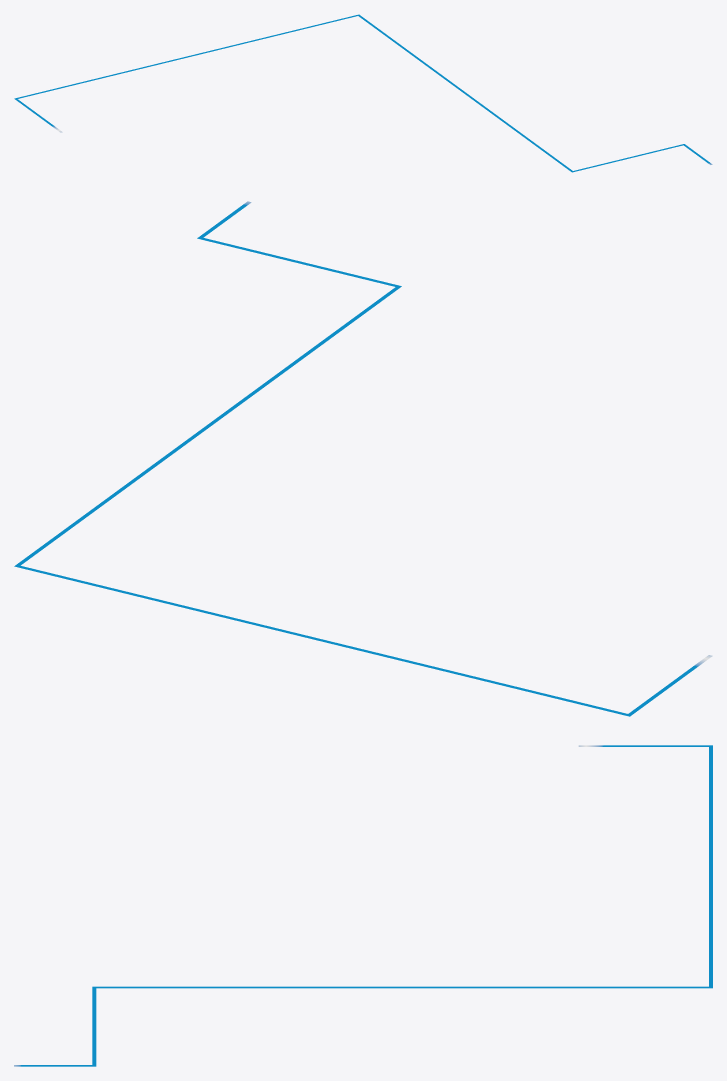
Rendered from Rompus_Room_to_Clean_Supply_Room.fbx.
3 views of the same model, one above another, from view 1: azimuth 30°, elevation 25°; view 2: azimuth 150°, elevation 25°; view 3: azimuth 270°, elevation 25° (orthographic). The views are drawn at different scales.
Visible parts, largest first — view 1: RompusRm_to_Clean_Supply_Room; view 2: RompusRm_to_Clean_Supply_Room; view 3: RompusRm_to_Clean_Supply_Room.
Part boxes in pixels (x1=…): RompusRm_to_Clean_Supply_Room: x1=14, y1=14, x2=712, y2=172; RompusRm_to_Clean_Supply_Room: x1=14, y1=201, x2=712, y2=716; RompusRm_to_Clean_Supply_Room: x1=14, y1=745, x2=712, y2=1066.
Bounding box in the file's own units: 9.89 × 0 × 9.1.
Materials: 1 (1 with a texture image).
